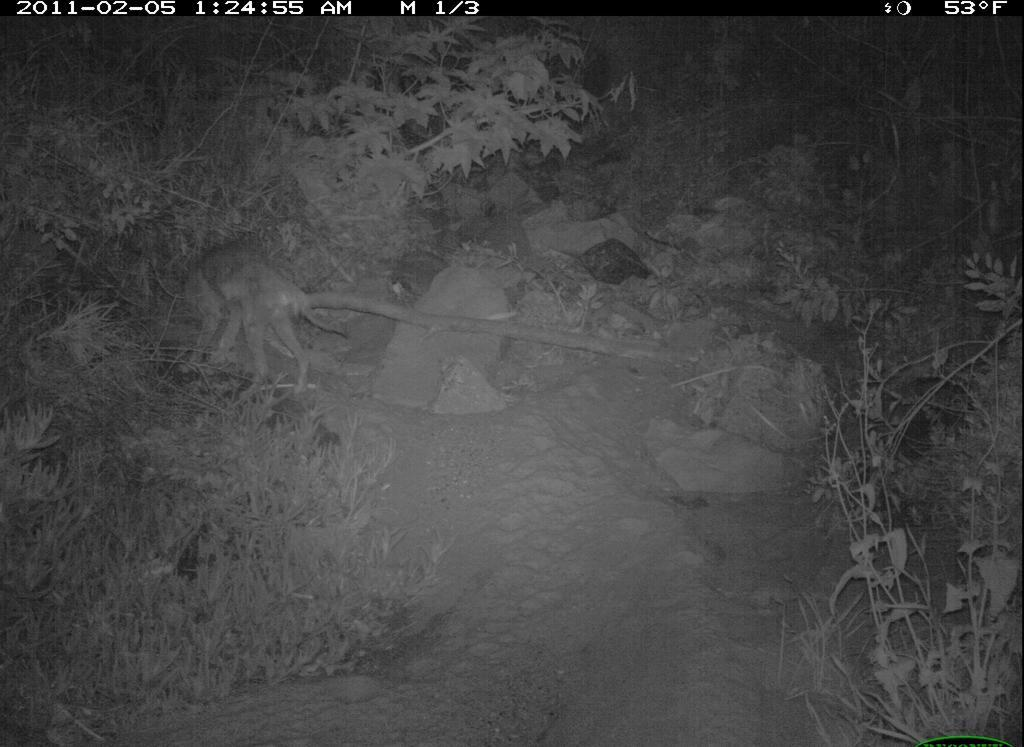coyote: (178, 236, 355, 401)
